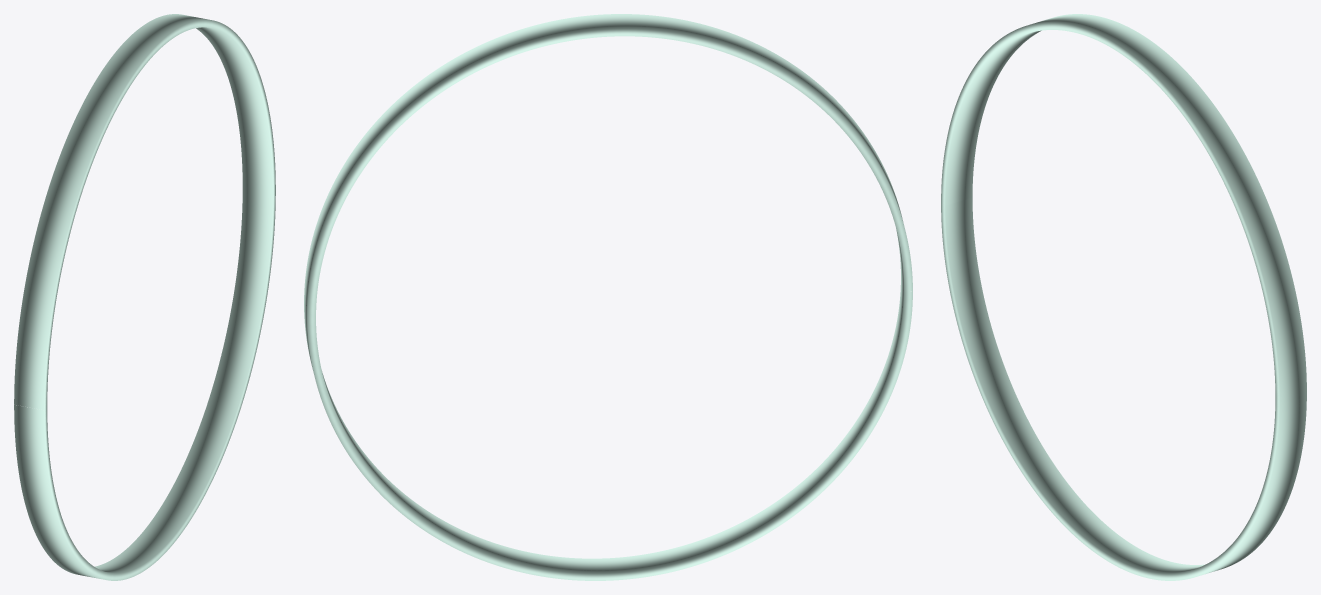
Rendered from coil_coil_8_tube.gltf.
3 renders of one model, left to right at view 1: azimuth 30°, elevation 25°; view 2: azimuth 150°, elevation 25°; view 3: azimuth 270°, elevation 25°, orthographic. The views are drawn at different scales.
Visible parts, largest first — view 1: Renderer Node; view 2: Renderer Node; view 3: Renderer Node.
Part boxes in pixels (box(x1,y1,x2,y2)): Renderer Node: box(14, 14, 275, 580); Renderer Node: box(304, 14, 912, 580); Renderer Node: box(941, 14, 1306, 580).
Bounding box in the file's own units: 0.5128 × 0.6084 × 0.3859.
